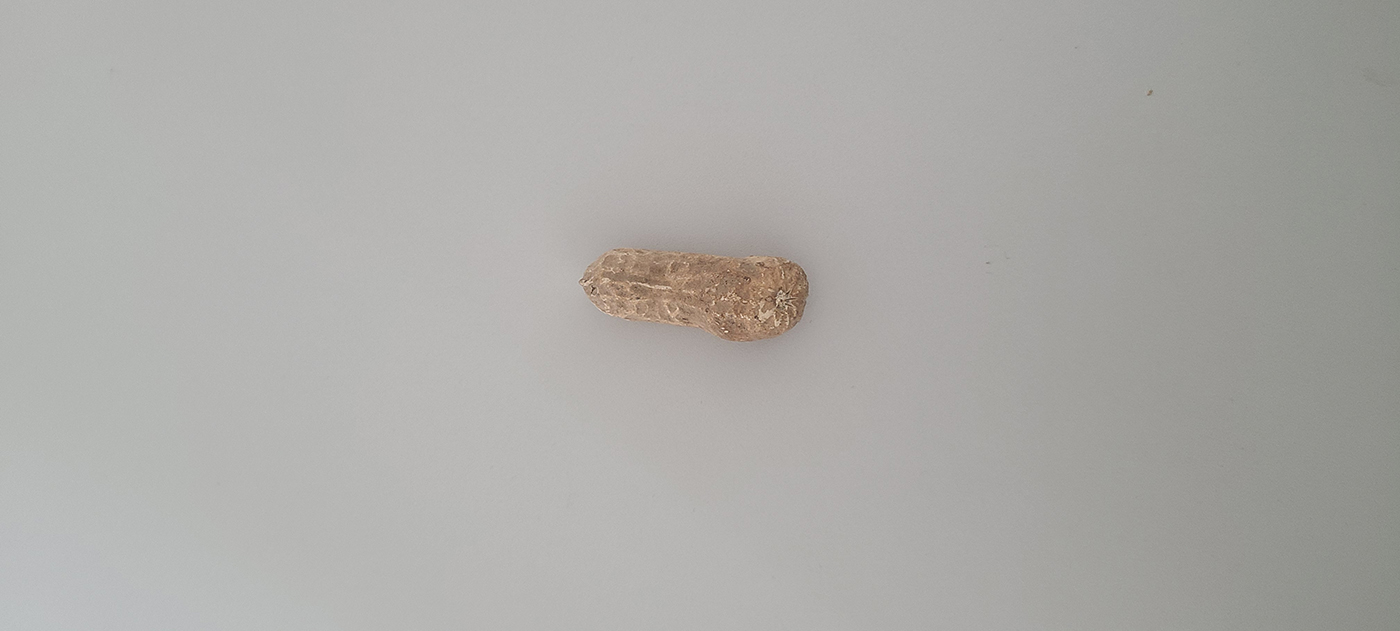h: (581, 248, 811, 345)
